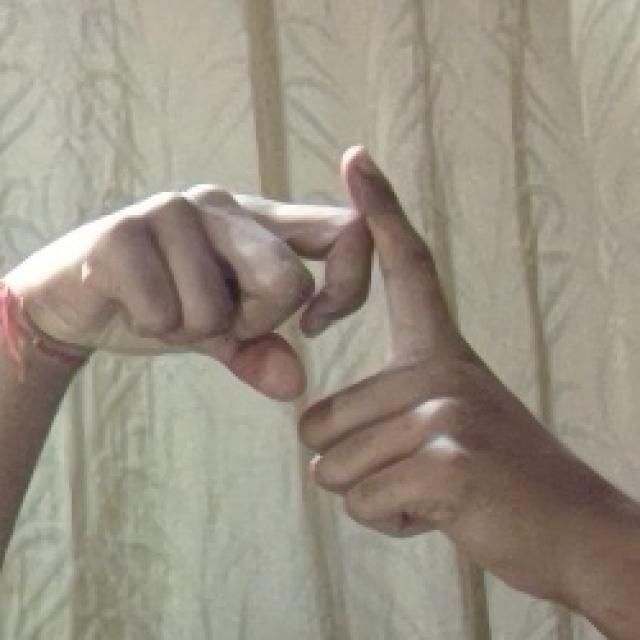Alphabet-K: (32, 140, 628, 614)
